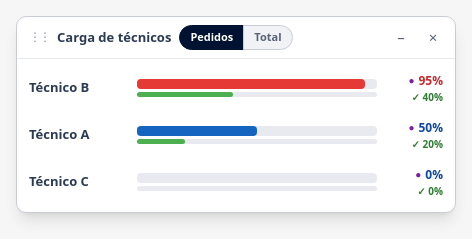
Test: PanelCarga: minimizado y cerrado › el contador de la pastilla sigue al alcance
Step 1. Click the button "Total" → (268, 37), box [243,25,292,50]
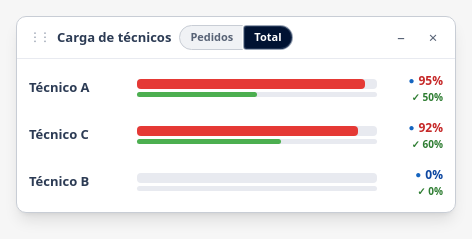
Step 2. Click the button named "Minimizar el panel de carga" → (401, 37), box [389,25,413,49]
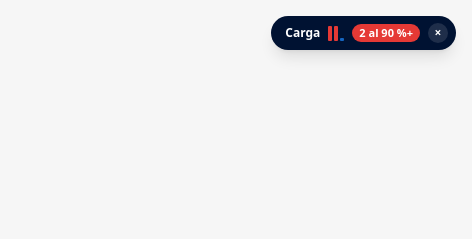
Expected: the text "2 al 90 %+" is shown, [352,24,420,42]
